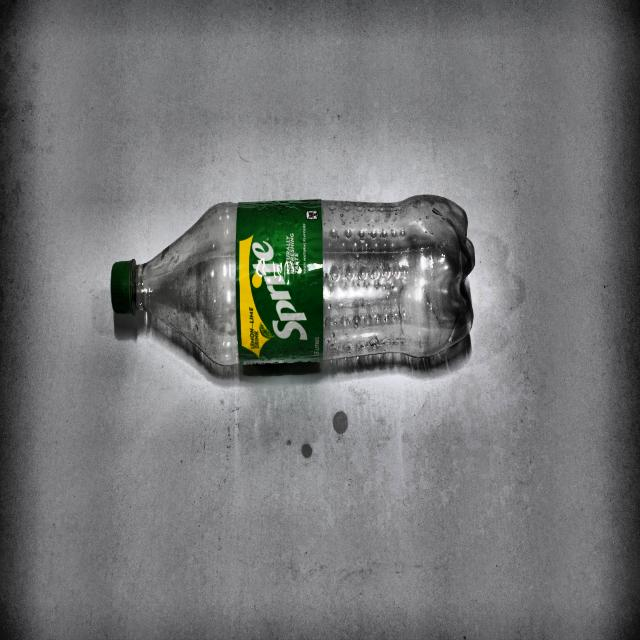Bottles: (110, 187, 488, 375)
